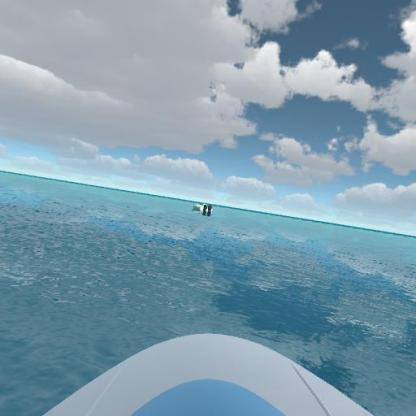usv0: (188, 197, 216, 218)
